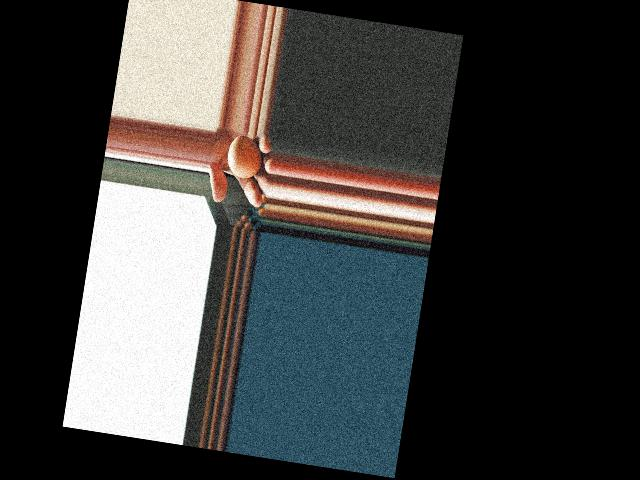egg: (225, 132, 266, 180)
